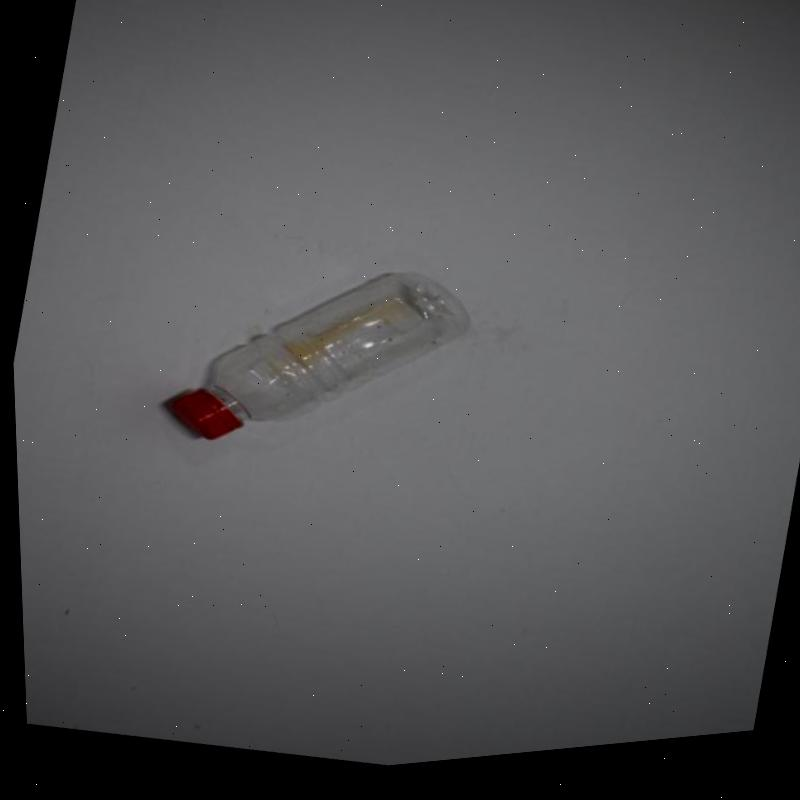botella: (153, 230, 479, 498)
